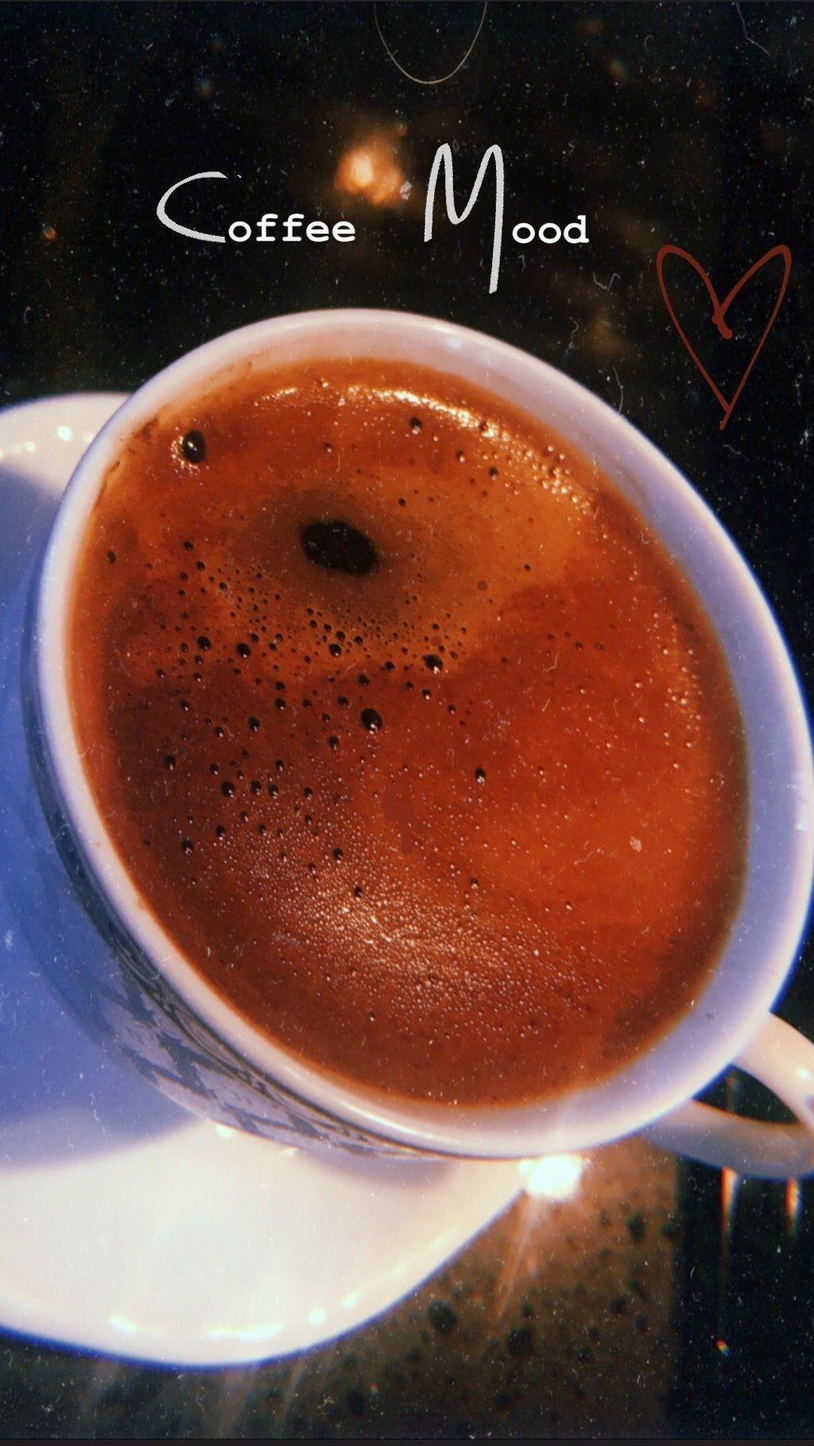cup-handle: (2, 301, 812, 1192)
